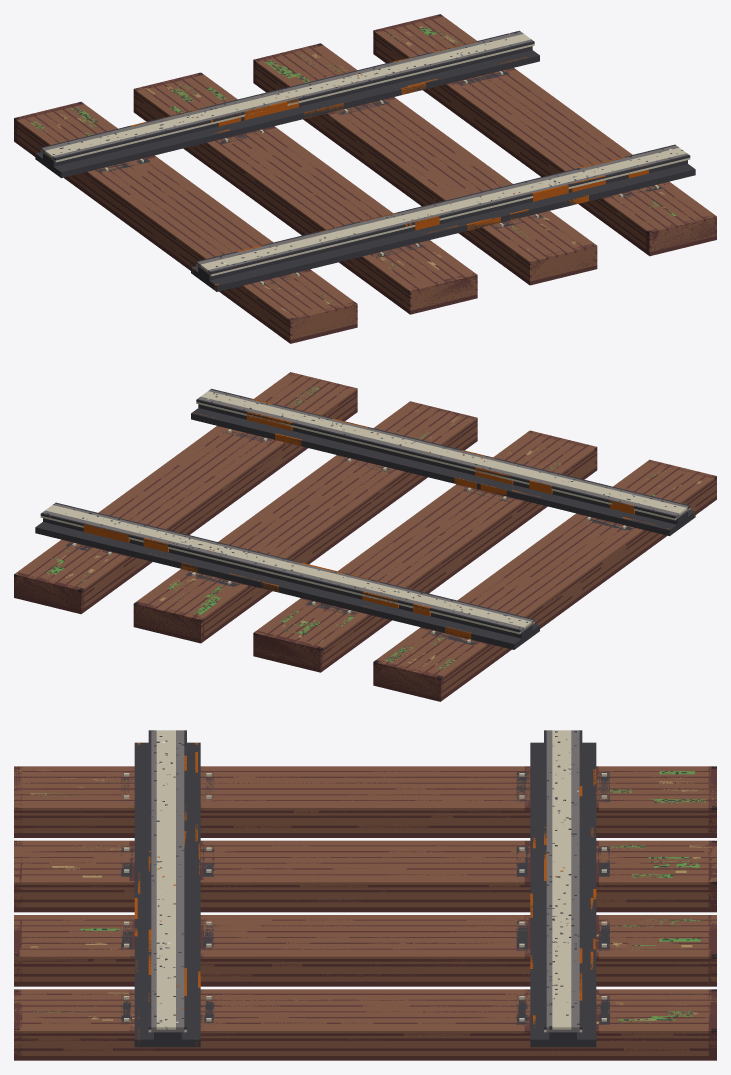
Rendered from track.glb.
3 renders of one model, top to bottom at view 1: azimuth 30°, elevation 25°; view 2: azimuth 150°, elevation 25°; view 3: azimuth 270°, elevation 25°, orthographic. The views are drawn at different scales.
Parts seen in each view (by area): view 1: Untitled, Untitled.001, Untitled.002, Untitled.003; view 2: Untitled, Untitled.001, Untitled.002, Untitled.003; view 3: Untitled, Untitled.001, Untitled.002, Untitled.003.
Boxes of the visible parts, x1,y1,x2,y2 form: Untitled: (14,14,716,343); Untitled.001: (14,14,716,343); Untitled.002: (17,21,715,333); Untitled.003: (14,17,696,321); Untitled: (14,372,716,701); Untitled.001: (14,372,716,701); Untitled.002: (31,373,716,677); Untitled.003: (16,378,713,696); Untitled: (14,730,716,1060); Untitled.001: (14,730,716,1060); Untitled.002: (14,730,713,1055); Untitled.003: (15,730,716,1056).
Size of the model in its own units: 25.6 by 2 by 25.6.
Materials: 4 (4 with a texture image).
